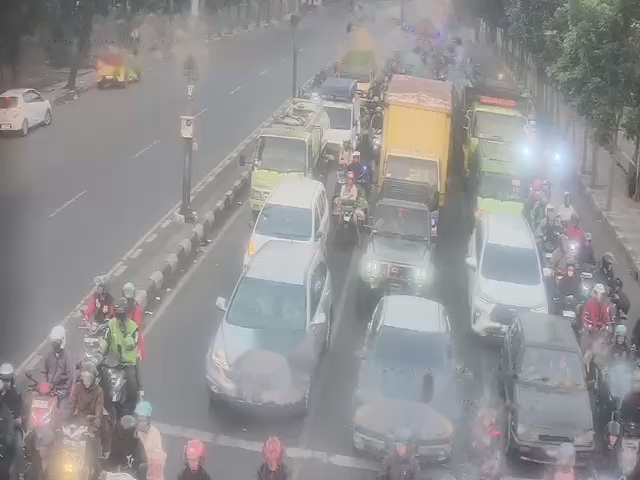Mobil: (216, 239, 324, 409), (355, 296, 453, 458), (505, 319, 590, 456), (473, 203, 542, 331), (361, 180, 431, 288), (254, 171, 326, 259), (478, 144, 521, 211), (0, 84, 50, 138)
Motor: (103, 350, 129, 404), (28, 389, 48, 434), (560, 296, 577, 331), (340, 199, 352, 234), (566, 233, 579, 265), (581, 269, 592, 298), (372, 129, 380, 154)
Truk: (383, 55, 452, 214), (256, 94, 332, 192), (463, 84, 523, 176)
